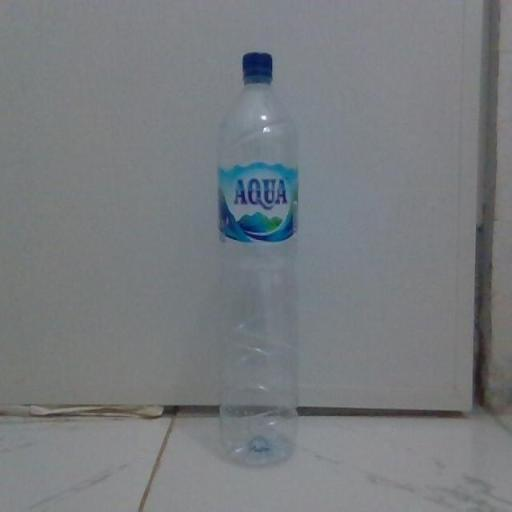bottle: (206, 41, 316, 478)
